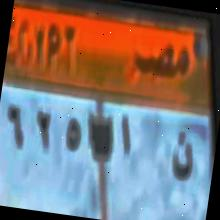2: (30, 102, 56, 162)
5: (56, 112, 88, 173)
6: (2, 101, 32, 152)
alif: (112, 109, 138, 162)
noon: (164, 120, 200, 190)
